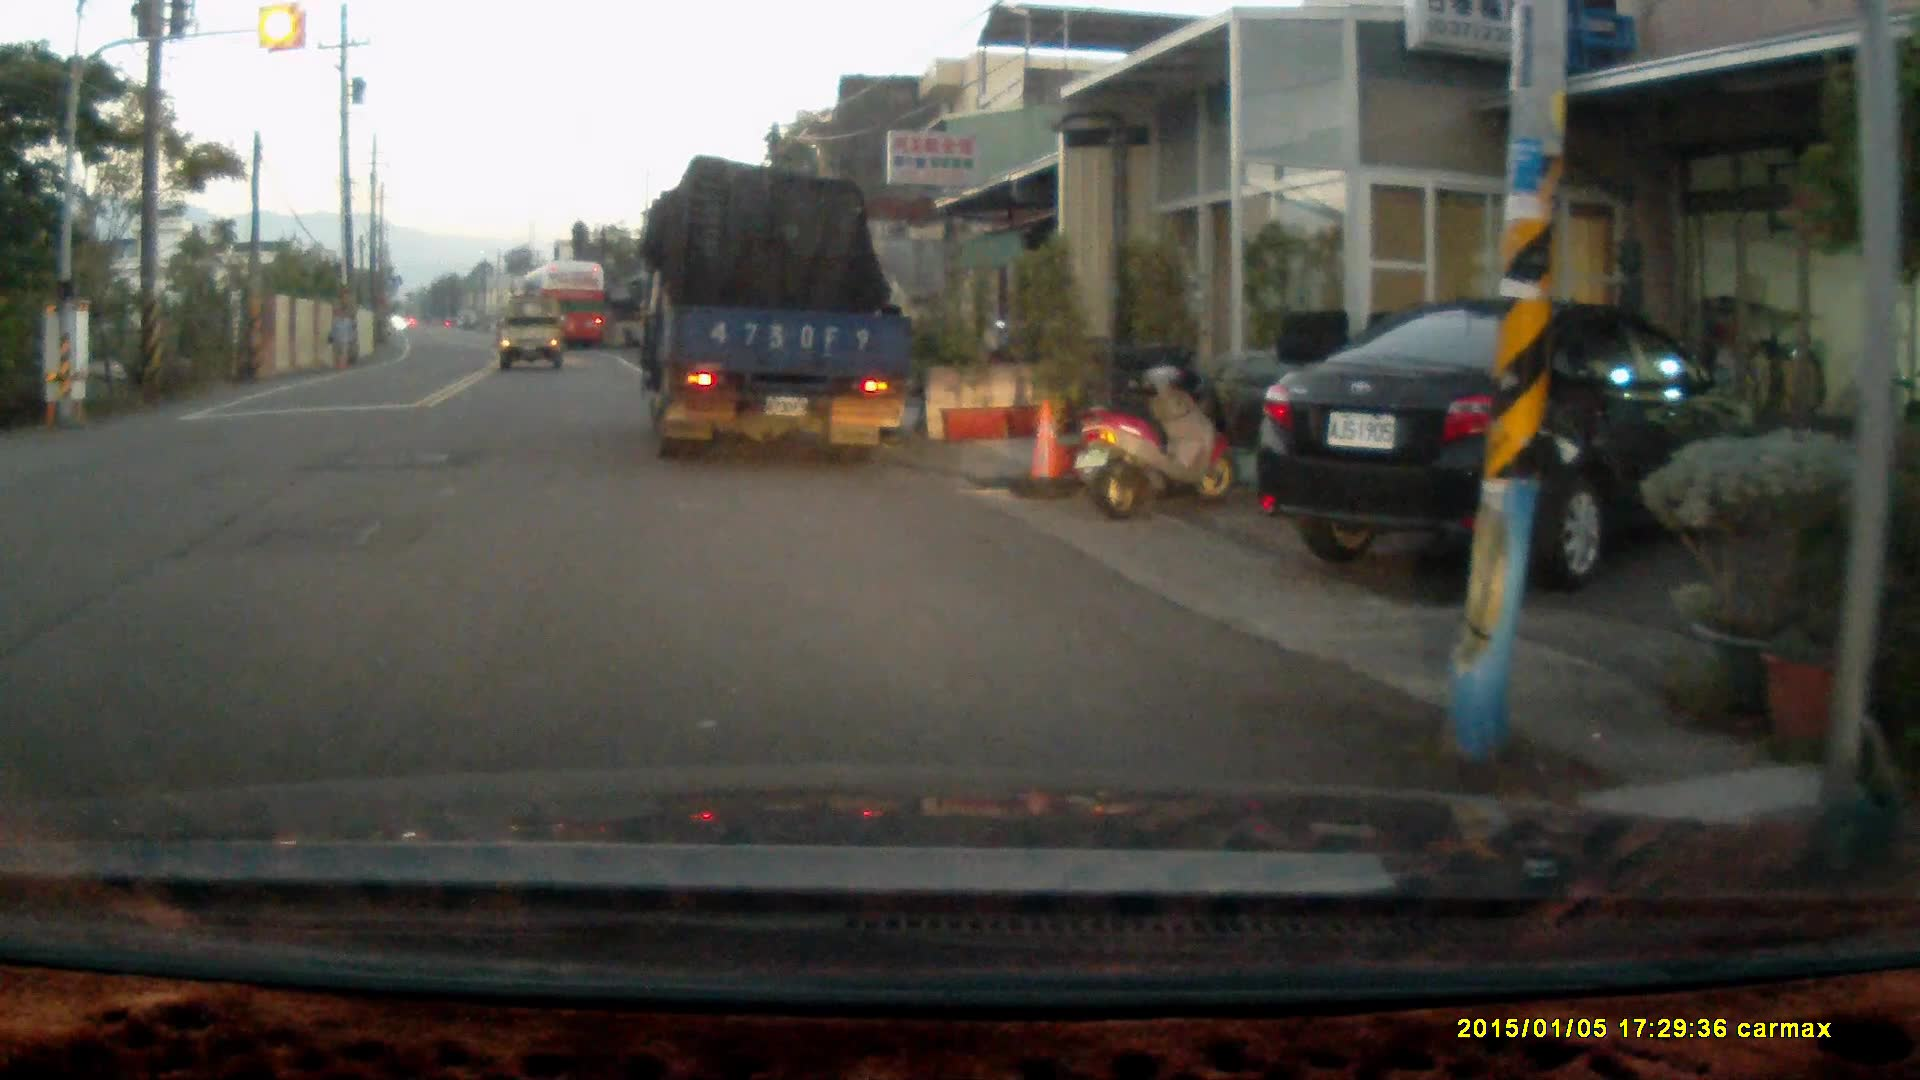pedestrian: (329, 303, 359, 370)
vehicle: (1247, 288, 1764, 588), (641, 161, 926, 456), (521, 262, 615, 357), (499, 297, 570, 372)
